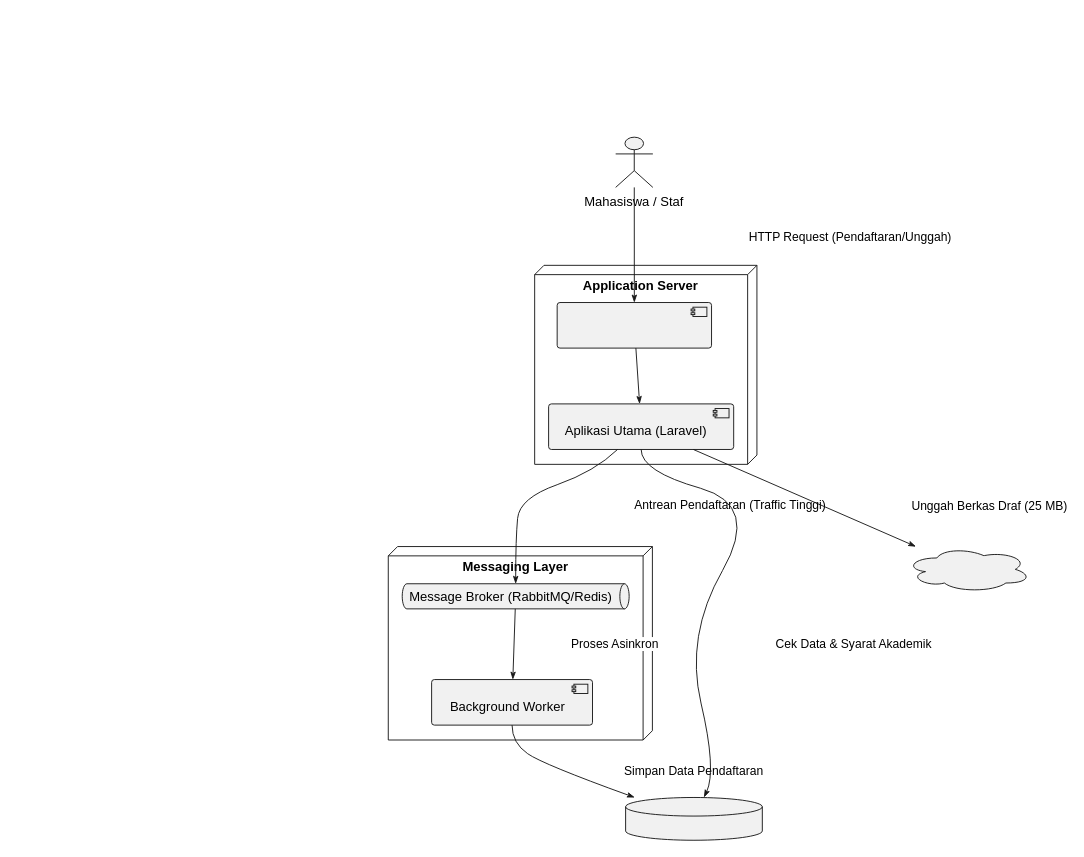
The diagram is 1084 pixels wide and 857 high, and some of its shapes have lost their labels. Each missing label, with the centre of its shape:
Object Storage: pixel 968 569
Relational Database: pixel 693 818
Web Server (Nginx): pixel 634 325
